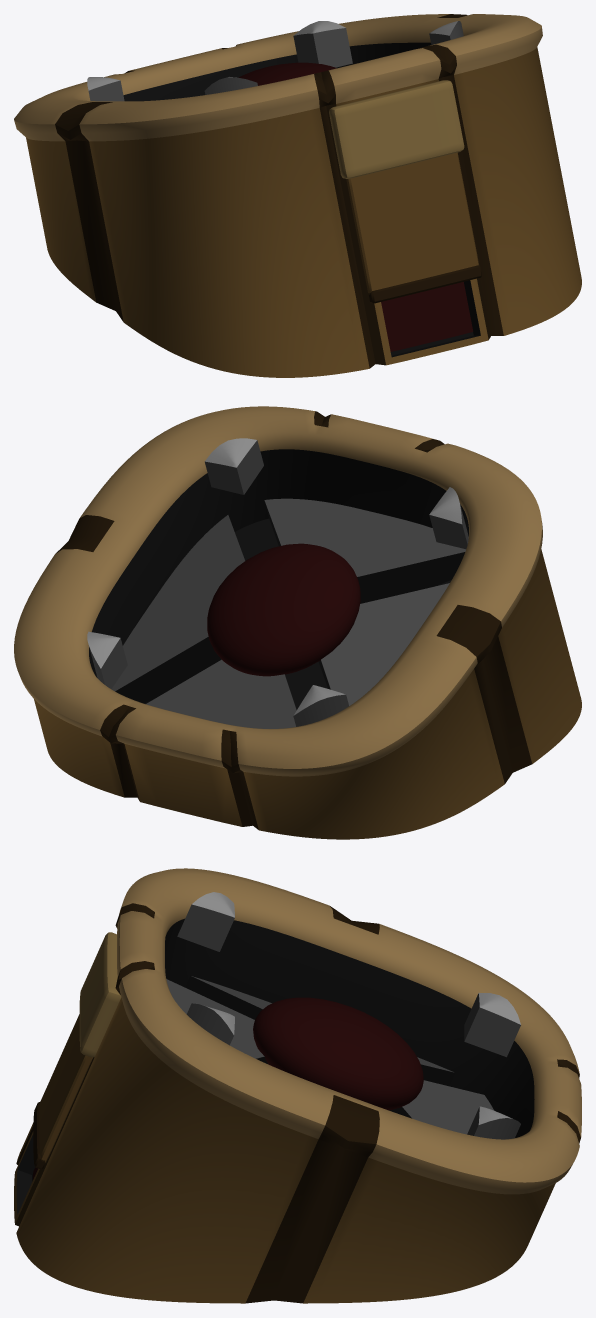
Rendered from eye_tub_201.glb.
3 views of the same model, one above another, from view 1: azimuth 30°, elevation 25°; view 2: azimuth 150°, elevation 25°; view 3: azimuth 270°, elevation 25° (orthographic). The views are drawn at different scales.
Visible parts, largest first — view 1: tub, shutter, band, lamp, petal0, shutter_lip, eye, petal1, petal2, petal3; view 2: tub, eye, housing2, housing3, housing0, housing1, petal3, petal2, petal0, petal1; view 3: tub, eye, band, shutter, housing1, petal1, petal2, housing0, housing3, petal0, petal3.
Boxes of the visible parts, x1=… form: tub: x1=14, y1=14, x2=581, y2=377; shutter: x1=346, y1=152, x2=479, y2=294; band: x1=329, y1=80, x2=464, y2=178; lamp: x1=381, y1=282, x2=473, y2=351; petal0: x1=293, y1=21, x2=352, y2=67; shutter_lip: x1=368, y1=265, x2=481, y2=303; eye: x1=238, y1=62, x2=336, y2=85; petal1: x1=87, y1=77, x2=124, y2=101; petal2: x1=204, y1=77, x2=257, y2=94; petal3: x1=429, y1=21, x2=463, y2=44; tub: x1=14, y1=406, x2=581, y2=839; eye: x1=207, y1=543, x2=360, y2=676; housing2: x1=111, y1=515, x2=244, y2=703; housing3: x1=264, y1=498, x2=465, y2=603; housing0: x1=318, y1=583, x2=449, y2=705; housing1: x1=146, y1=659, x2=296, y2=728; petal3: x1=204, y1=438, x2=263, y2=494; petal2: x1=429, y1=487, x2=468, y2=549; petal0: x1=87, y1=631, x2=127, y2=689; petal1: x1=293, y1=685, x2=348, y2=726; tub: x1=14, y1=868, x2=581, y2=1303; eye: x1=253, y1=997, x2=423, y2=1110; band: x1=79, y1=932, x2=121, y2=1057; shutter: x1=39, y1=1014, x2=92, y2=1162; housing1: x1=389, y1=1080, x2=493, y2=1134; petal1: x1=464, y1=993, x2=520, y2=1057; petal2: x1=177, y1=892, x2=234, y2=951; housing0: x1=185, y1=976, x2=455, y2=1086; housing3: x1=166, y1=979, x2=268, y2=1064; petal0: x1=467, y1=1106, x2=520, y2=1139; petal3: x1=186, y1=1003, x2=234, y2=1045.
Bounding box in the file's own units: 21.26 × 11.98 × 23.54.
